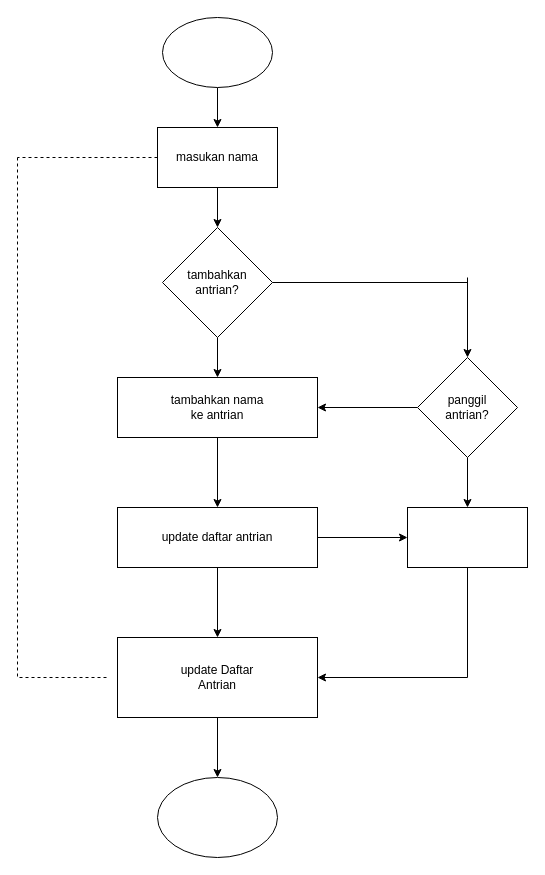
The diagram is 545 pixels wide and 875 high, and some of its shapes have lost their labels. Here are the shapes that lost their labels. From the top down, the centre of each, then its label:
point (217, 52): mulai
point (467, 537): panggil nama panggil Atas
point (217, 817): selesai
